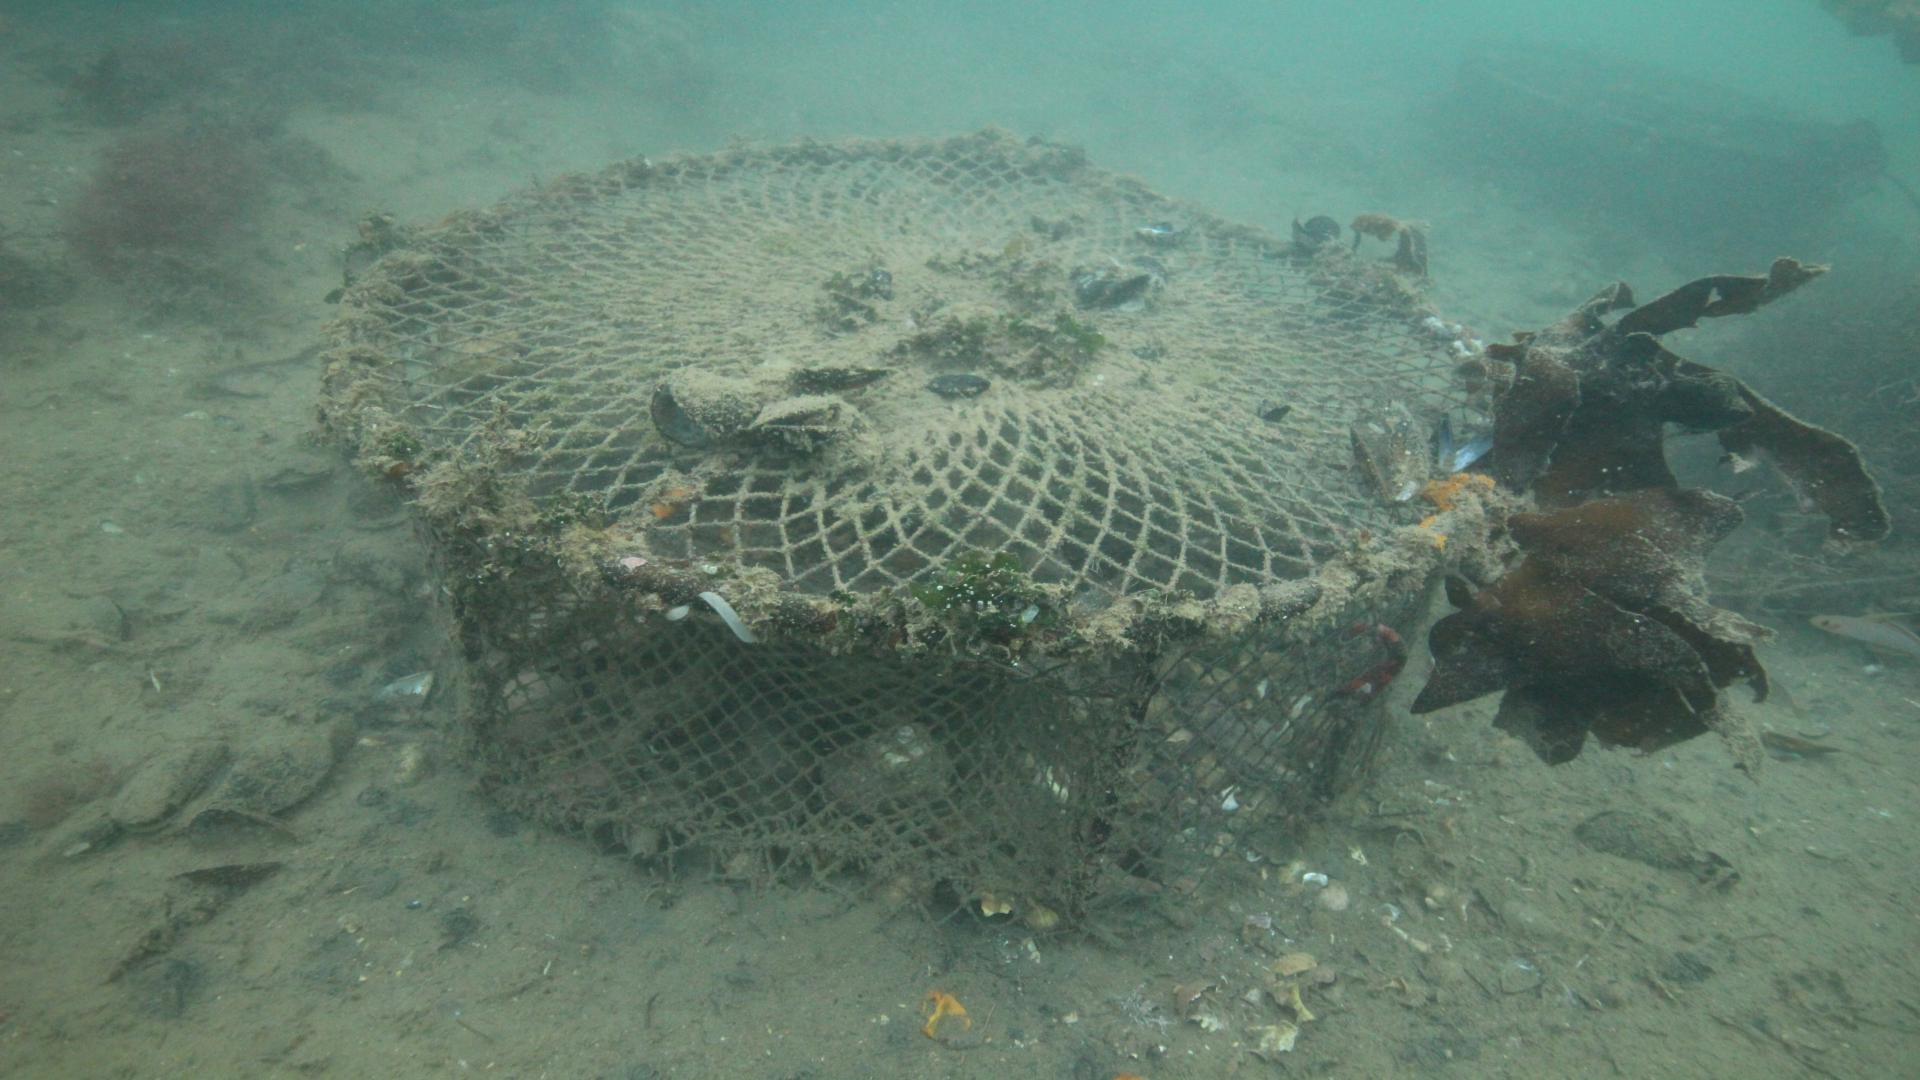circular fish trap: (315, 120, 1498, 947)
